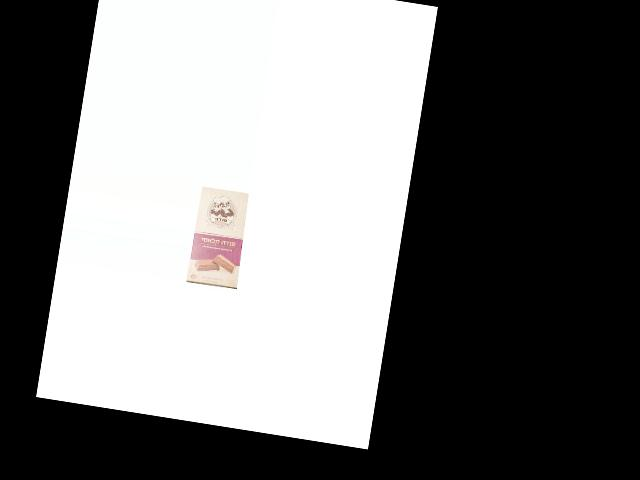chocolate: (187, 185, 253, 290)
